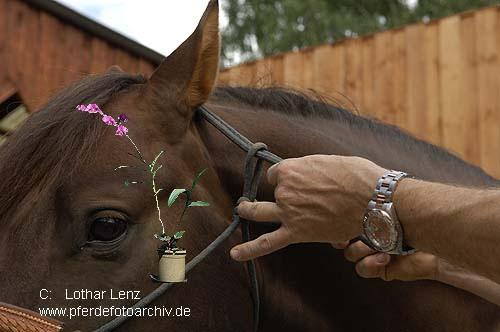tampered: (77, 105, 213, 283)
